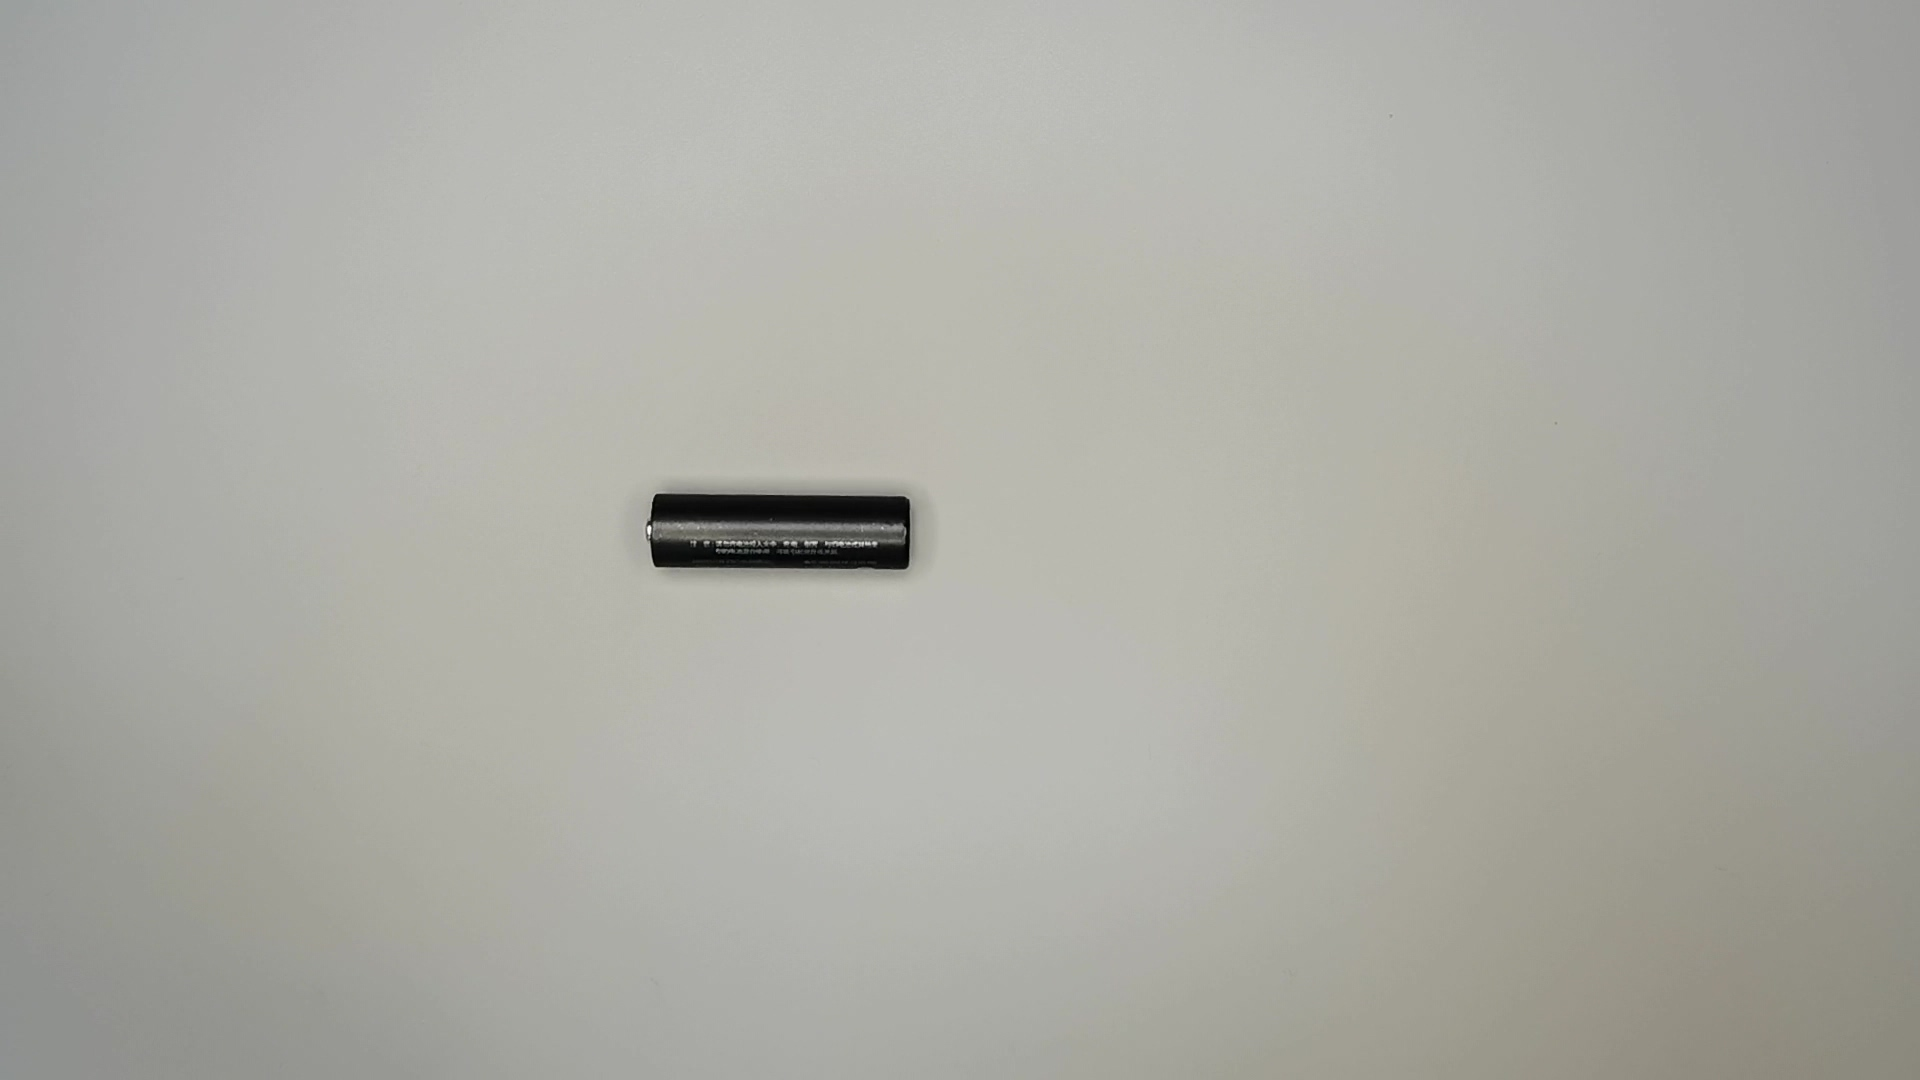battery: (638, 477, 922, 582)
